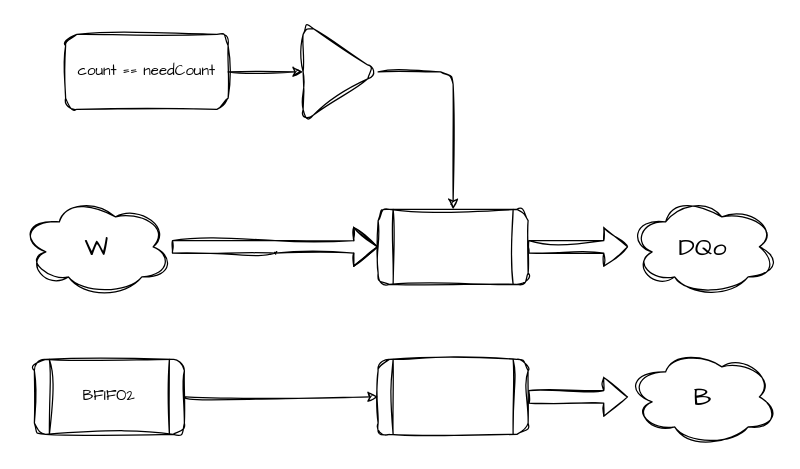
Image size: 800x469. Some labels were removed from this diagram. The box of each missing label's shape, as (x1, y1, x2, y2) in pixels:
BFIFO1: (377, 358, 528, 434)
DEQ: (302, 21, 378, 122)
WFIFO-4D32W: (377, 208, 528, 284)
